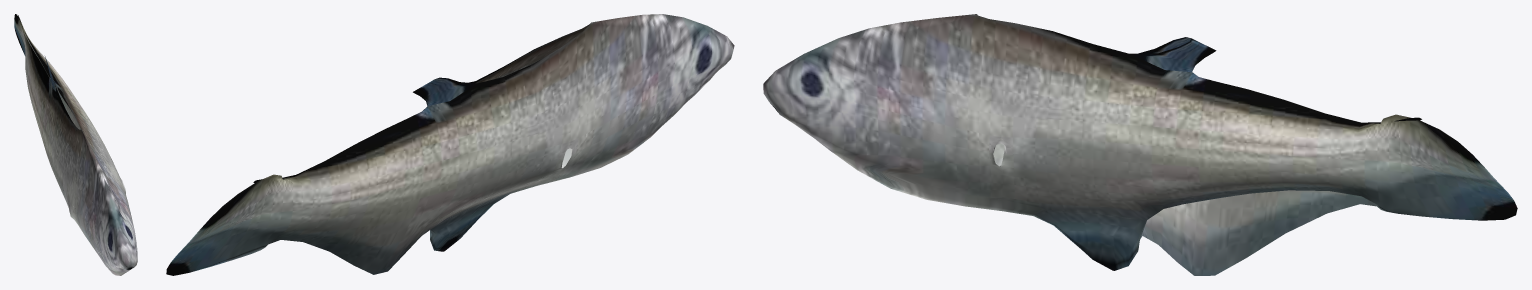
The model's file is BELIDA.fbx.
The picture shows the model from 3 angles, left to right: view 1: azimuth 30°, elevation 25°; view 2: azimuth 150°, elevation 25°; view 3: azimuth 270°, elevation 25°; orthographic projection. The views are drawn at different scales.
Visible parts, largest first — view 1: FISH; view 2: FISH; view 3: FISH.
Boxes of the visible parts, x1,y1,x2,y2 form: FISH: [14, 14, 137, 275]; FISH: [166, 14, 734, 275]; FISH: [763, 14, 1517, 275].
Size of the model in its own units: 260 by 238 by 744.
